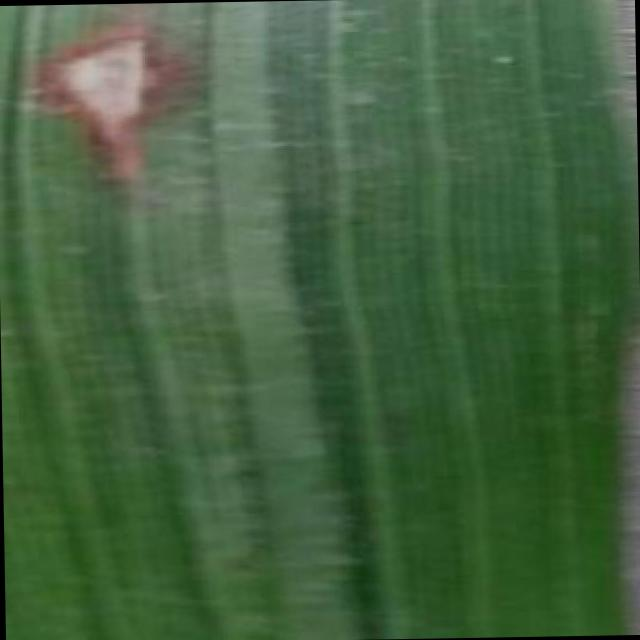Rice_Blast: (16, 12, 209, 182)
